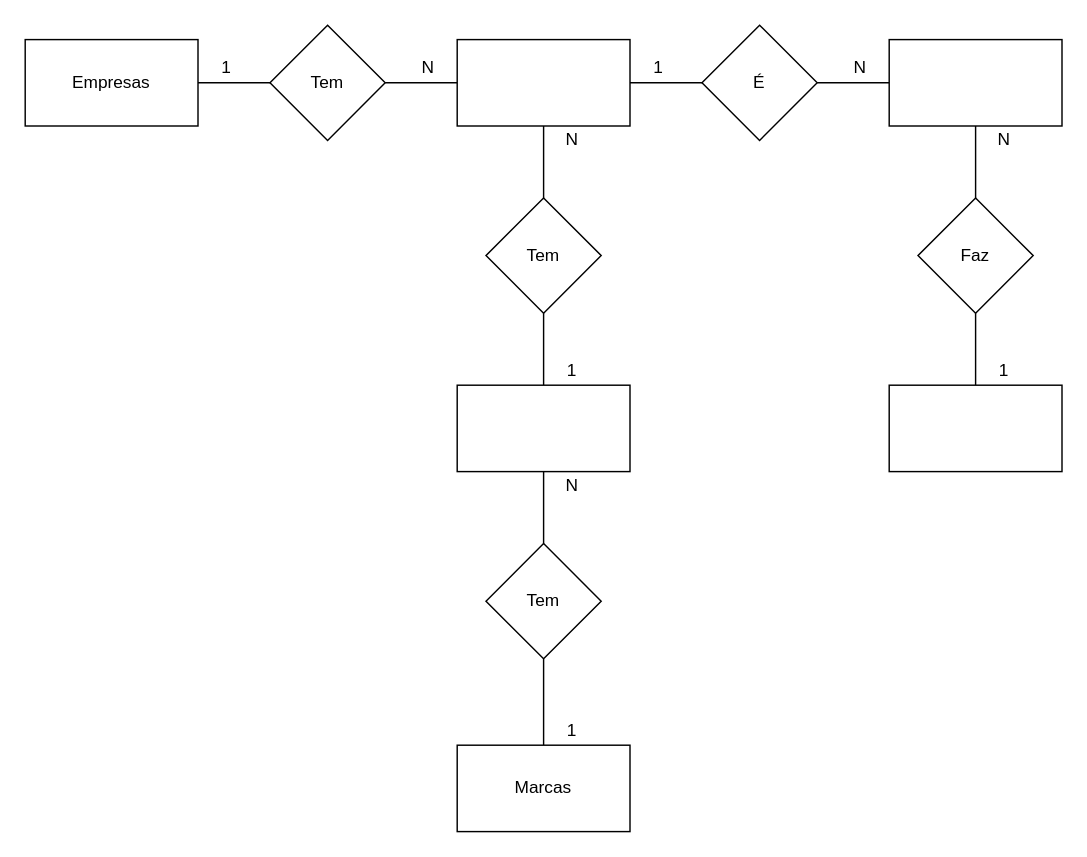
Some shapes in this 1087 by 857 pixel diagram are drawn without their labels. Here are the shapes that lost their labels. From the top down, the centre of each, then its label:
[543,82]: Veículos
[975,82]: Alugueis
[543,428]: Modelos
[975,428]: Clientes
